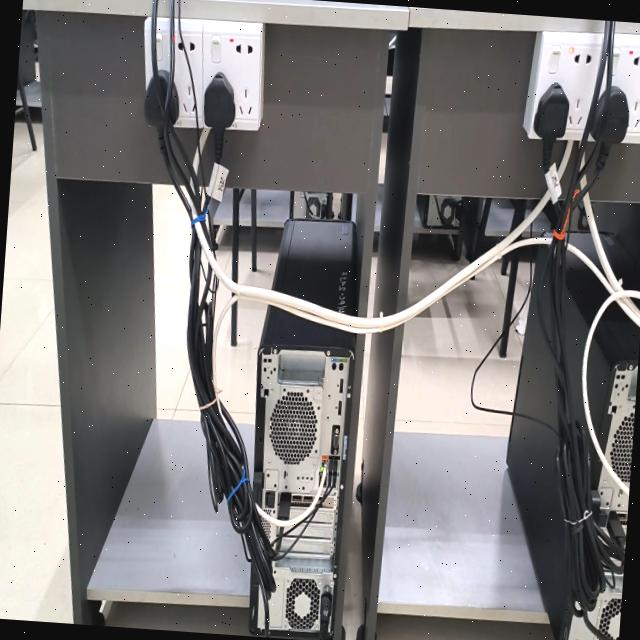Cpu: (505, 238, 640, 640), (252, 304, 355, 640), (271, 218, 357, 312), (416, 193, 460, 229), (248, 569, 263, 632)
